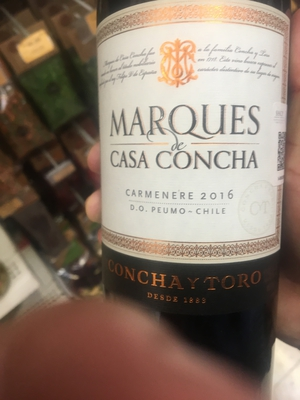marques de casa concha carmenere: (89, 6, 293, 316)
